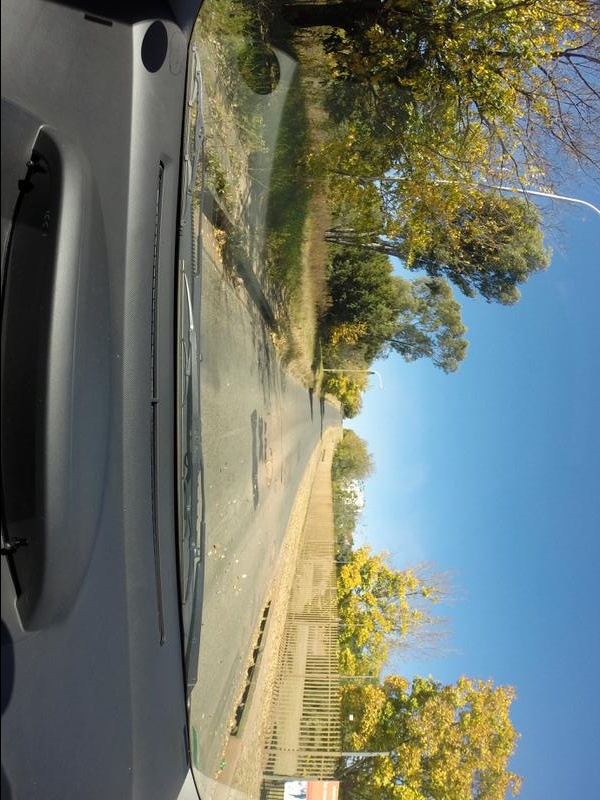pothole: (254, 441, 283, 503)
